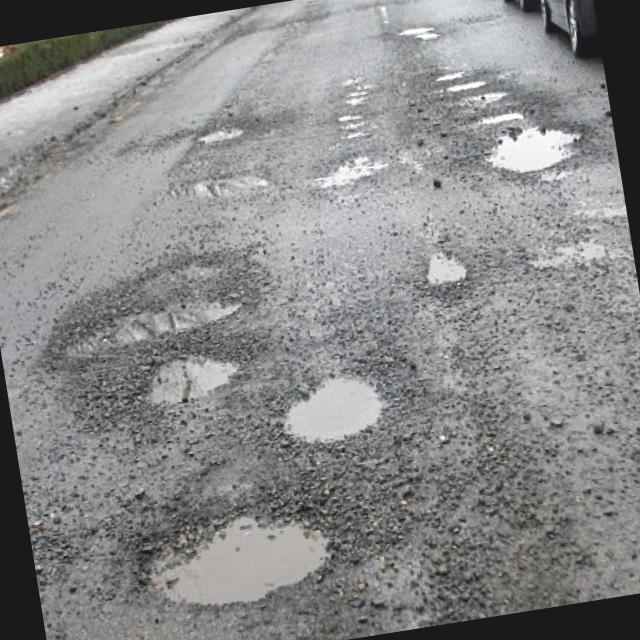bad-road: (130, 488, 344, 624), (49, 286, 253, 362), (271, 361, 396, 452), (126, 340, 246, 412), (482, 114, 597, 182), (432, 56, 532, 130), (168, 166, 279, 206), (303, 146, 391, 194), (420, 242, 471, 286), (191, 119, 249, 148), (395, 20, 445, 48)
